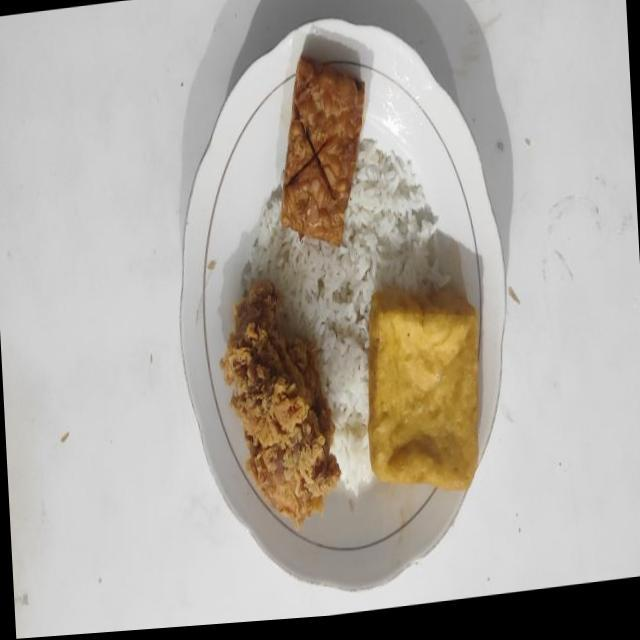nasi_putih: (242, 139, 450, 495)
tahu_goreng: (368, 285, 478, 490)
tempe_goreng: (282, 56, 364, 245)
